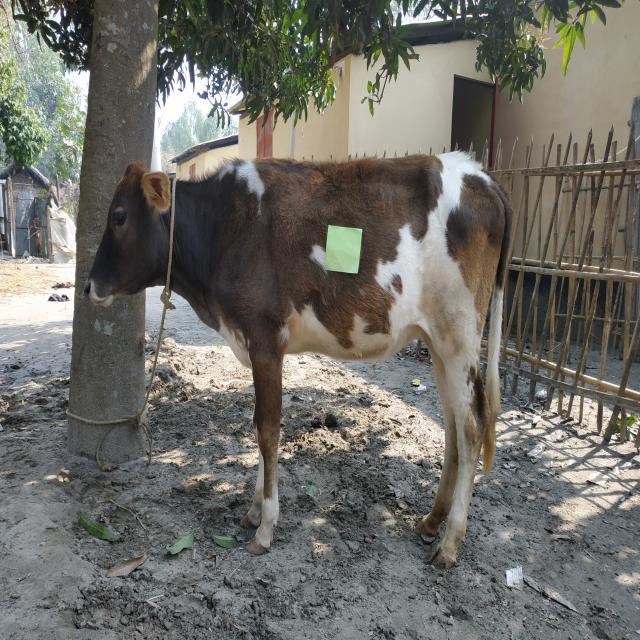badan_sapi: (235, 159, 486, 364)
sapi: (76, 141, 522, 573)
